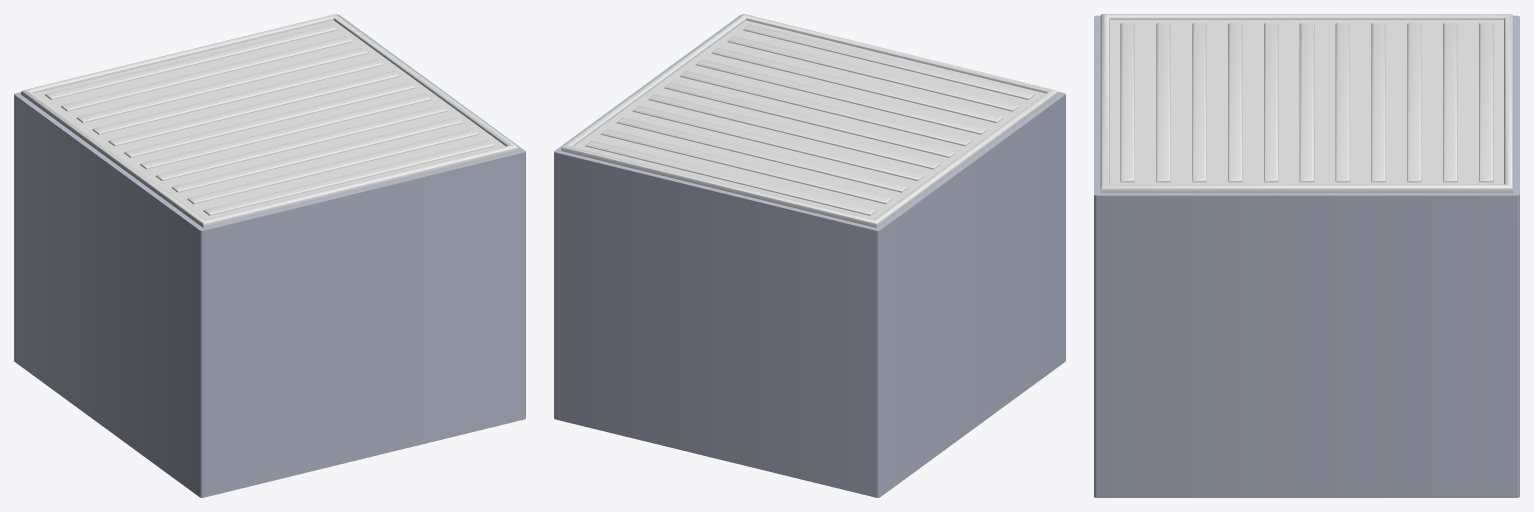
File: Plates holder.fbx
The picture shows the model from 3 angles, left to right: view 1: azimuth 30°, elevation 25°; view 2: azimuth 150°, elevation 25°; view 3: azimuth 270°, elevation 25°; orthographic projection. The views are drawn at different scales.
Parts seen in each view (by area): view 1: Cube.001; view 2: Cube.001; view 3: Cube.001.
Boxes of the visible parts, x1,y1,x2,y2 form: Cube.001: (14, 14, 525, 497); Cube.001: (554, 14, 1065, 497); Cube.001: (1094, 14, 1519, 497).
Size of the model in its own units: 200 by 160 by 200.
